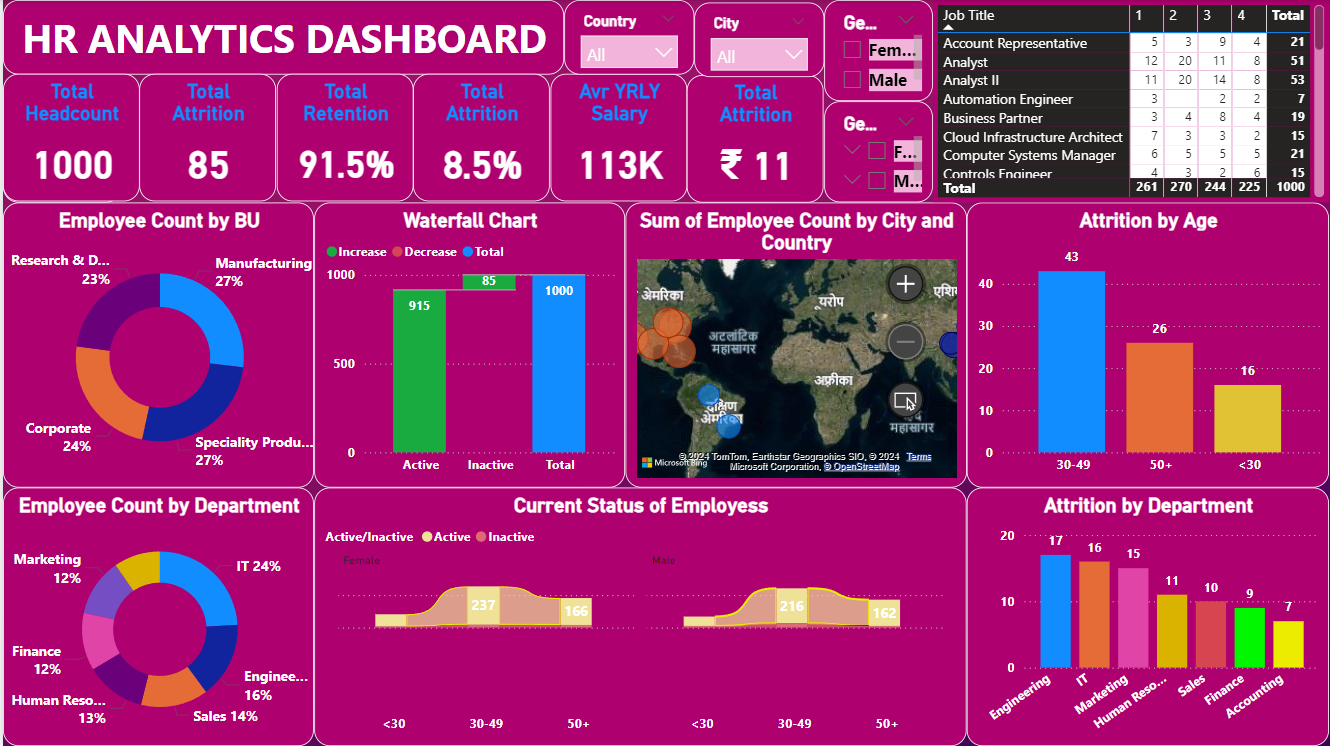

The page's visual inventory and layout, read from the dashboard file:
{"tool":"powerbi","page":{"name":"Page 1","canvas":[1280,720],"ordinal":0},"visuals":[{"type":"textbox","box":[0,0,541.5,72.4],"z":0},{"type":"card","title":"Total Attrition","fields":{"Values":["Sum(EMPData.Attrition Count)"]},"box":[132.1,71.2,132.1,123],"z":0,"group":"g1"},{"type":"card","title":"Total Headcount","fields":{"Values":["Sum(EMPData.Employee Count)"]},"box":[0,71.2,132.1,123],"z":1000,"group":"g1"},{"type":"donutChart","title":"Employee Count by Department","fields":{"Y":["Sum(EMPData.Employee Count)"],"Category":["EMPData.Department"]},"box":[0,470.4,300.3,249.6],"z":1000},{"type":"card","title":"Total Retention","fields":{"Values":["EMPData.Retension Rate"]},"box":[264.1,71.2,132.1,123],"z":2000,"group":"g1"},{"type":"donutChart","title":"Employee Count by BU","fields":{"Y":["Sum(EMPData.Employee Count)"],"Category":["EMPData.BU Descr"]},"box":[0,195.4,300.3,275],"z":2000},{"type":"card","title":"Total Attrition","fields":{"Values":["EMPData.Attrition Date"]},"box":[396.2,71.2,132.1,123],"z":3000,"group":"g1"},{"type":"waterfallChart","title":"Waterfall Chart","fields":{"Y":["Sum(EMPData.Employee Count)"],"Category":["EMPData.Active/Inactive"]},"box":[300.3,195.4,300,275],"z":3000},{"type":"card","title":"Avr YRLY Salary","fields":{"Values":["Avg(EMPData.Annual Salary)"]},"box":[528.2,71.2,132.1,123],"z":4000,"group":"g1"},{"type":"clusteredColumnChart","title":"Attrition by Age","fields":{"Category":["EMPData.Age Group.Age Group"],"Y":["Sum(EMPData.Attrition Count)"]},"box":[929.8,195.4,349.7,275],"z":4000},{"type":"card","title":"Total Attrition","fields":{"Values":["Avg(EMPData.Tenure Months)"]},"box":[660.3,72.4,132.1,123],"z":5000,"group":"g1"},{"type":"clusteredColumnChart","title":"Attrition by Department","fields":{"Y":["Sum(EMPData.Attrition Count)"],"Category":["EMPData.Department"]},"box":[929.8,470.4,349.7,249.6],"z":5000},{"type":"map","fields":{"Size":["Sum(EMPData.Employee Count)"],"Category":["EMPData.City"],"Series":["EMPData.Country"]},"box":[600.6,195.4,329.2,275],"z":6000},{"type":"ribbonChart","title":"Current Status of Employess","fields":{"Y":["Sum(EMPData.Employee Count)"],"Category":["EMPData.Age Group"],"Series":["EMPData.Active/Inactive"],"Rows":["EMPData.Gender"]},"box":[300.3,470.4,629.5,249.6],"z":7000},{"type":"card","title":"Total Headcount","fields":{"Values":["Sum(EMPData.Employee Count)"]},"box":[0,74.8,114.6,120.6],"z":8000},{"type":"group","id":"g1","title":"Group 1","box":[0,71.2,792.4,124.2],"z":9000},{"type":"slicer","fields":{"Values":["EMPData.Country"]},"box":[541.5,0,125.4,72.4],"z":10000},{"type":"slicer","fields":{"Values":["EMPData.City"]},"box":[666.9,2.4,125.4,72.4],"z":11000},{"type":"slicer","fields":{"Values":["EMPData.Gender"]},"box":[792.4,0,104.9,97.7],"z":12000},{"type":"pivotTable","fields":{"Columns":["EMPData.Quarter"],"Rows":["EMPData.Job Title"],"Values":["Sum(EMPData.Employee Count)"]},"box":[897.3,0,382.3,195.4],"z":13000},{"type":"slicer","fields":{"Values":["EMPData.Gender","EMPData.Attrition Count"]},"box":[792.4,97.7,104.9,97.7],"z":14000}]}

Visuals, with their boxes in screenshot pixels (x1, y1, x2, y2), scaled from the page's 1280x720 canvas onto the 1330x746 screenshot:
textbox: box(0, 0, 563, 75)
"Total Attrition" card: box(137, 74, 275, 201)
"Total Headcount" card: box(0, 74, 137, 201)
"Employee Count by Department" donutChart: box(0, 487, 312, 745)
"Total Retention" card: box(274, 74, 412, 201)
"Employee Count by BU" donutChart: box(0, 202, 312, 487)
"Total Attrition" card: box(412, 74, 549, 201)
"Waterfall Chart" waterfallChart: box(312, 202, 624, 487)
"Avr YRLY Salary" card: box(549, 74, 686, 201)
"Attrition by Age" clusteredColumnChart: box(966, 202, 1329, 487)
"Total Attrition" card: box(686, 75, 823, 202)
"Attrition by Department" clusteredColumnChart: box(966, 487, 1329, 745)
map - Sum(EMPData.Employee Count) x EMPData.City: box(624, 202, 966, 487)
"Current Status of Employess" ribbonChart: box(312, 487, 966, 745)
"Total Headcount" card: box(0, 78, 119, 202)
"Group 1" group: box(0, 74, 823, 202)
slicer - EMPData.Country: box(563, 0, 693, 75)
slicer - EMPData.City: box(693, 2, 823, 78)
slicer - EMPData.Gender: box(823, 0, 932, 101)
pivotTable - EMPData.Quarter x EMPData.Job Title: box(932, 0, 1329, 202)
slicer - EMPData.Gender x EMPData.Attrition Count: box(823, 101, 932, 202)
